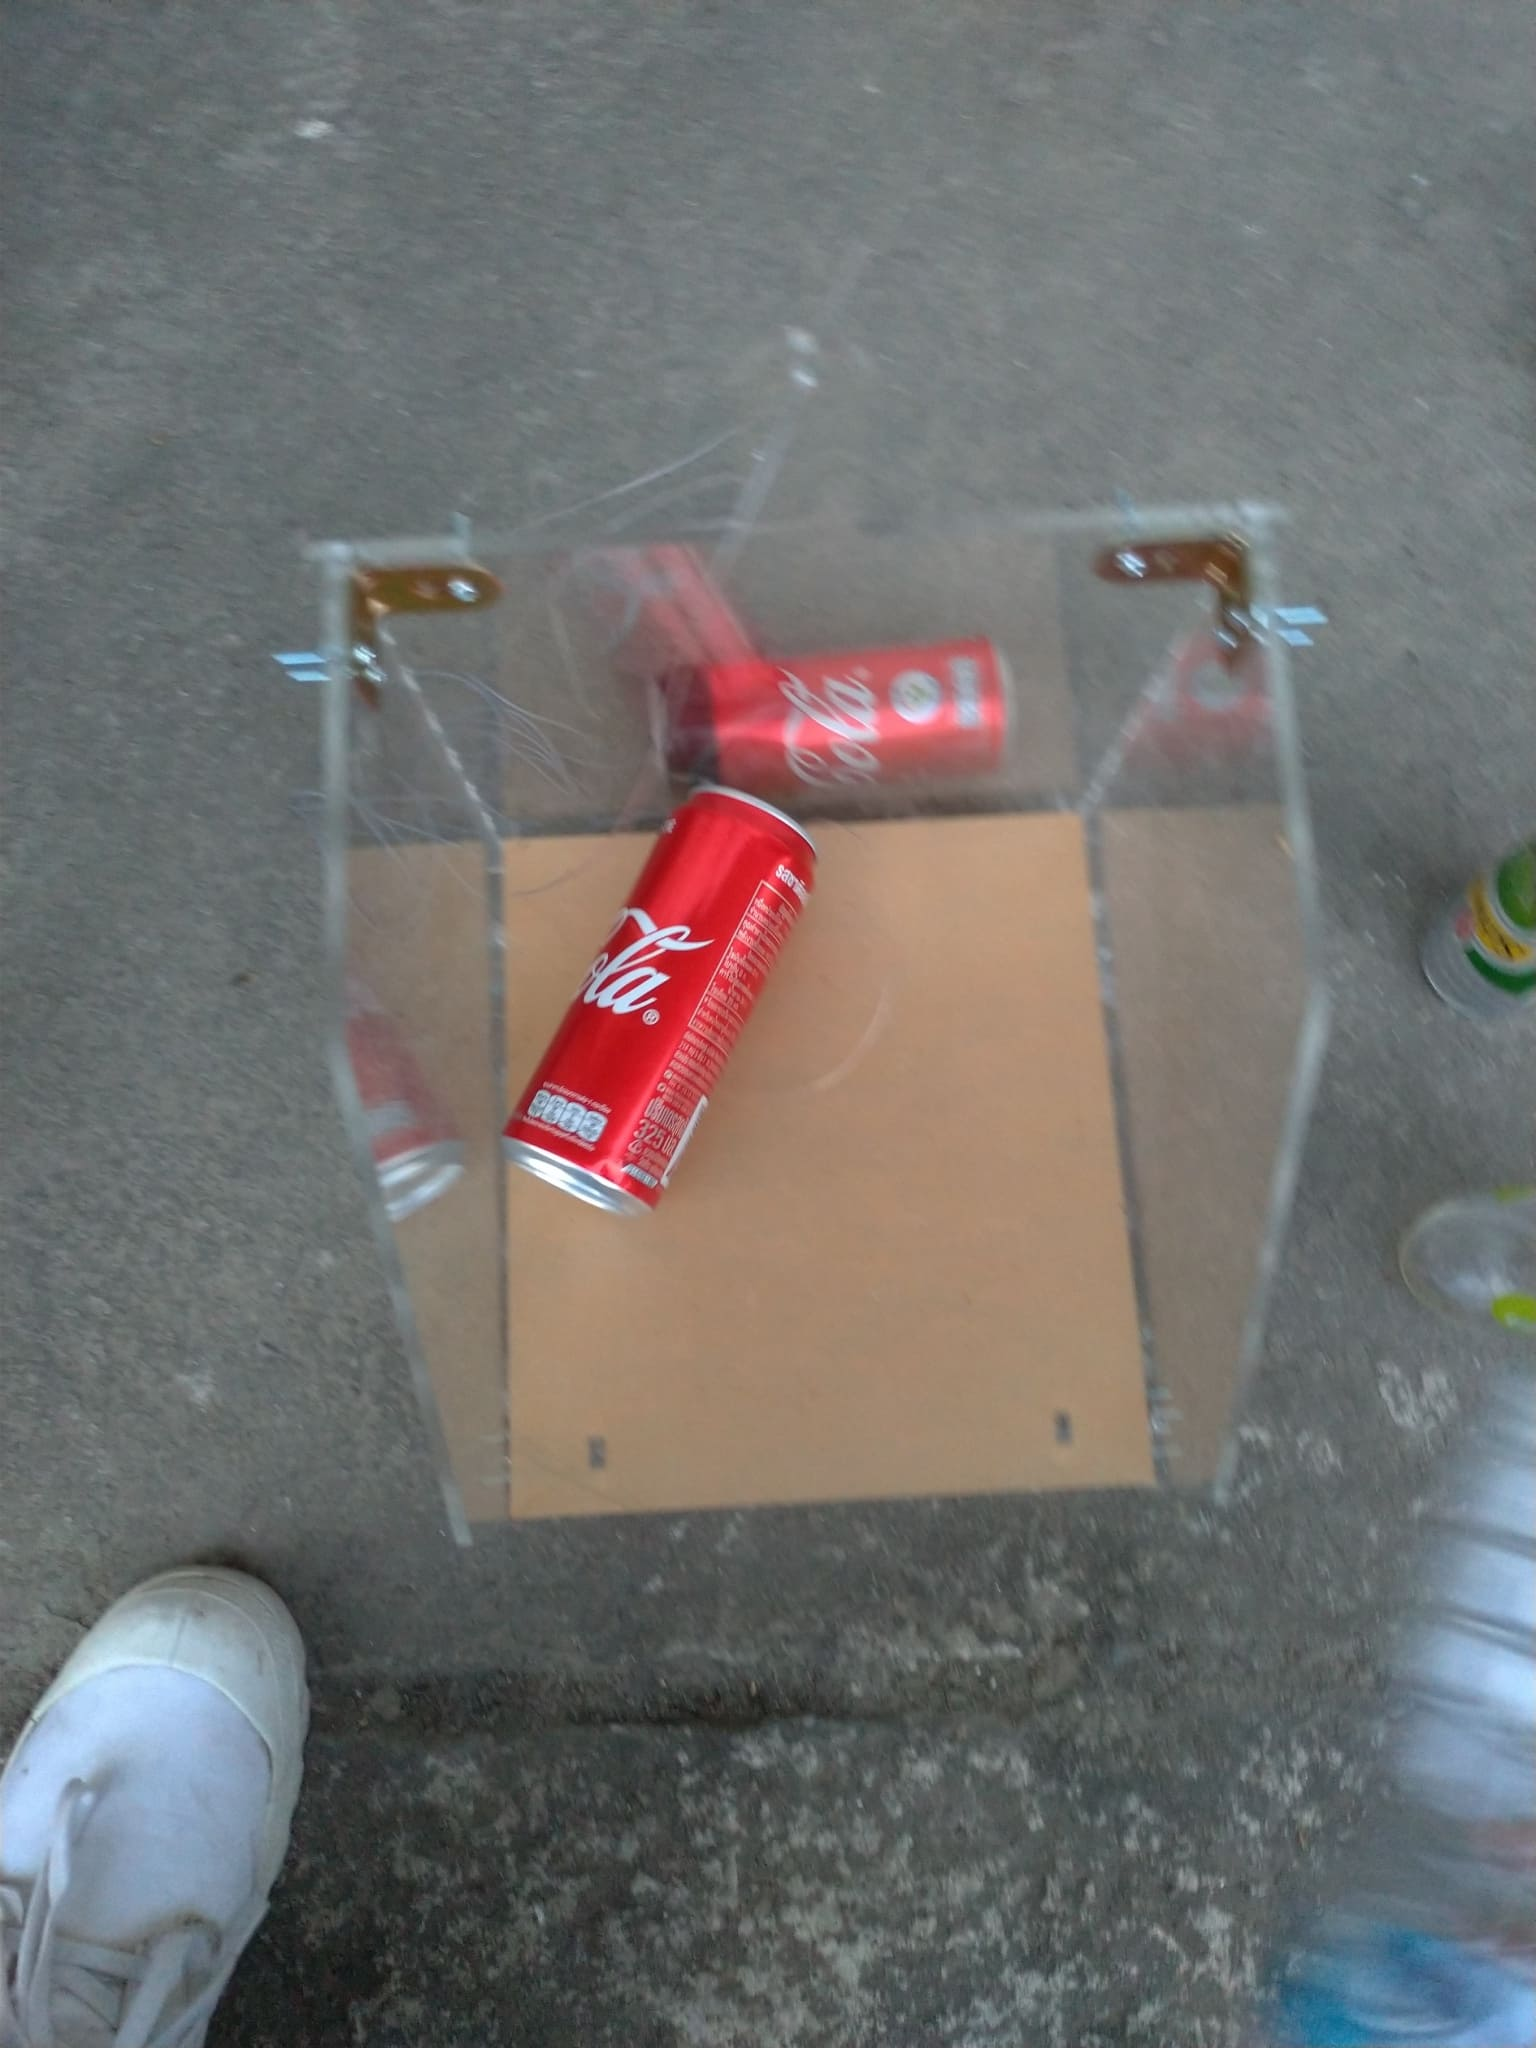AlCan: (497, 777, 816, 1211), (650, 639, 1010, 811), (1417, 827, 1533, 1030)
